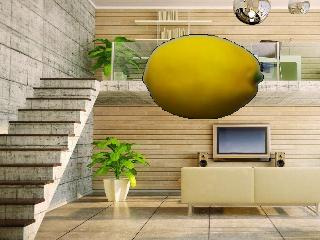lemon: (137, 30, 268, 122)
